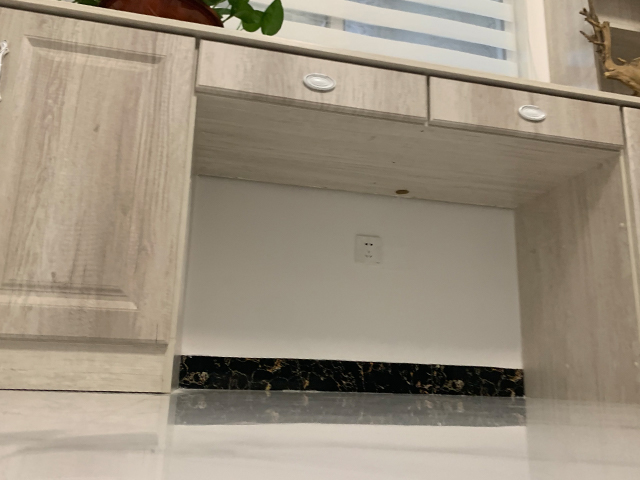cabinet: (1, 1, 215, 394)
